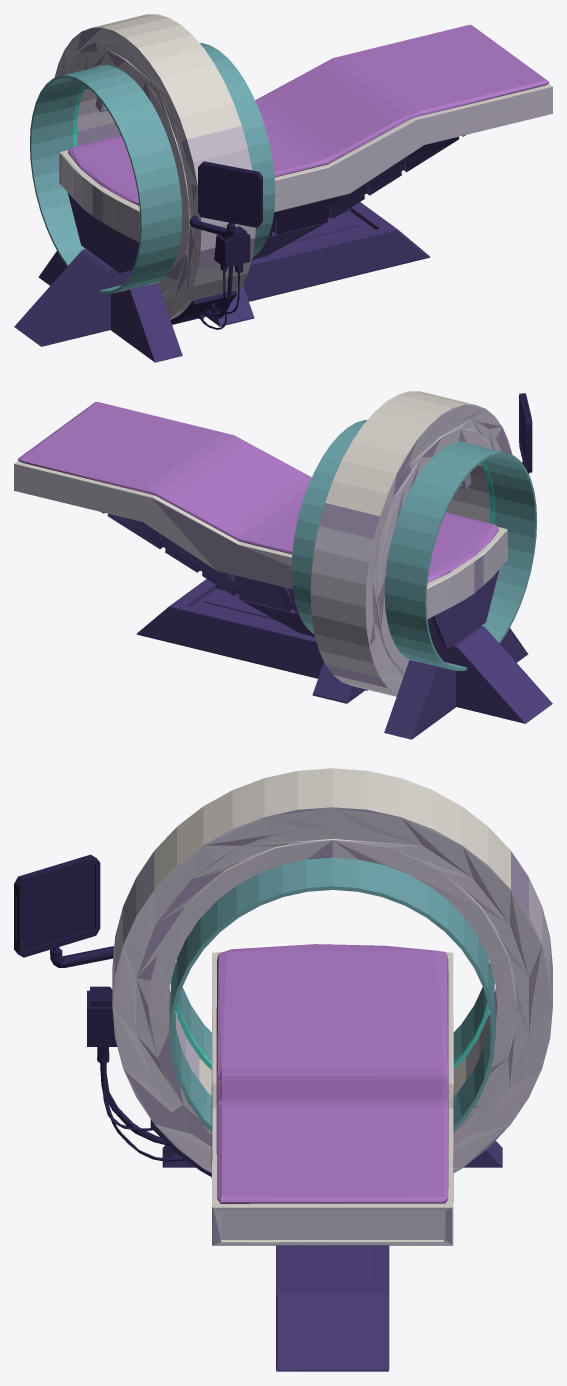
The model's file is escaner.glb.
3 views of the same model, one above another, from view 1: azimuth 30°, elevation 25°; view 2: azimuth 150°, elevation 25°; view 3: azimuth 270°, elevation 25° (orthographic). The views are drawn at different scales.
Parts seen in each view (by area): view 1: escaner; view 2: escaner; view 3: escaner.
Part boxes in pixels (bbox=[...]): escaner: bbox=[14, 14, 552, 362]; escaner: bbox=[14, 391, 552, 739]; escaner: bbox=[14, 768, 552, 1371].
Size of the model in its own units: 1 by 0.5427 by 0.6618.
